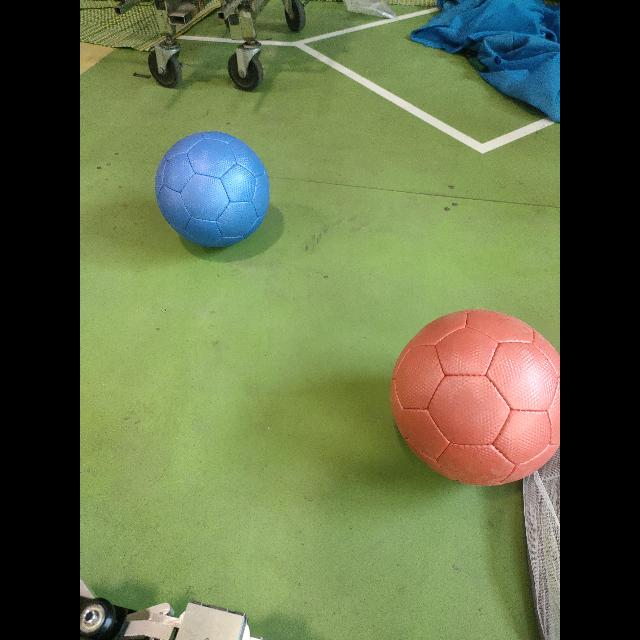B: (154, 131, 271, 253)
R: (390, 310, 560, 489)
